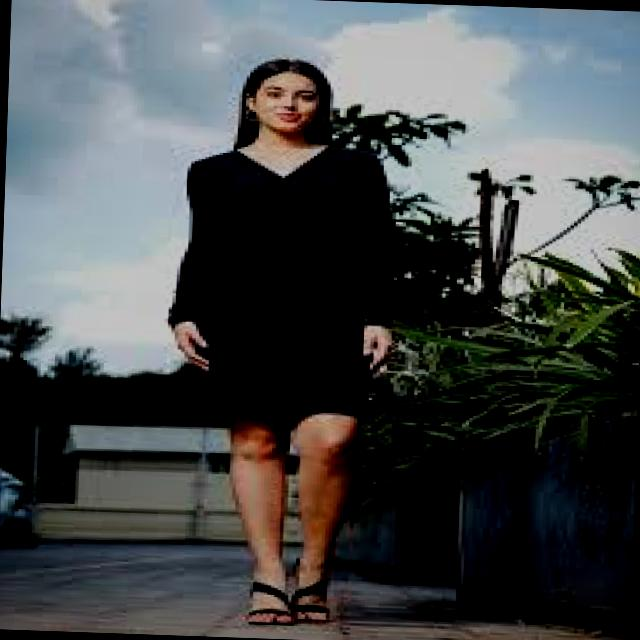dress: (167, 146, 393, 418)
